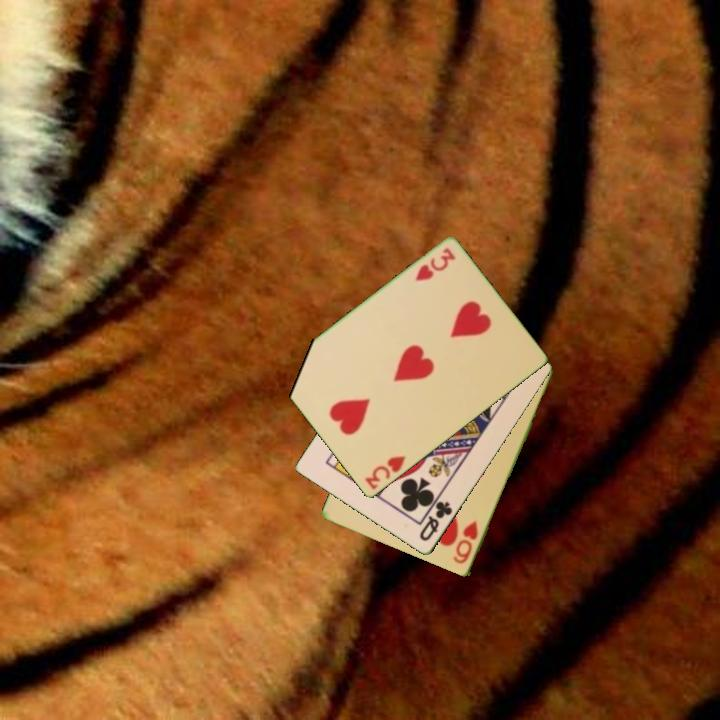3h: (361, 452, 409, 493), (412, 245, 458, 285)
6h: (450, 517, 481, 567)
Qc: (416, 498, 455, 545)
